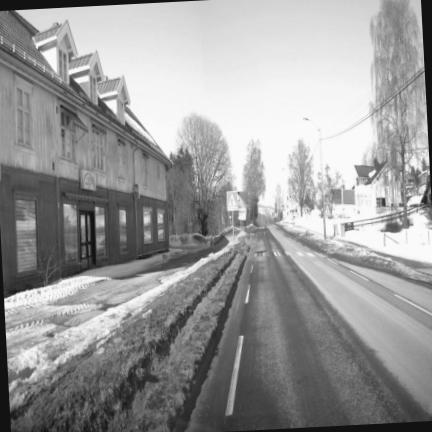Road: (187, 226, 431, 431)
